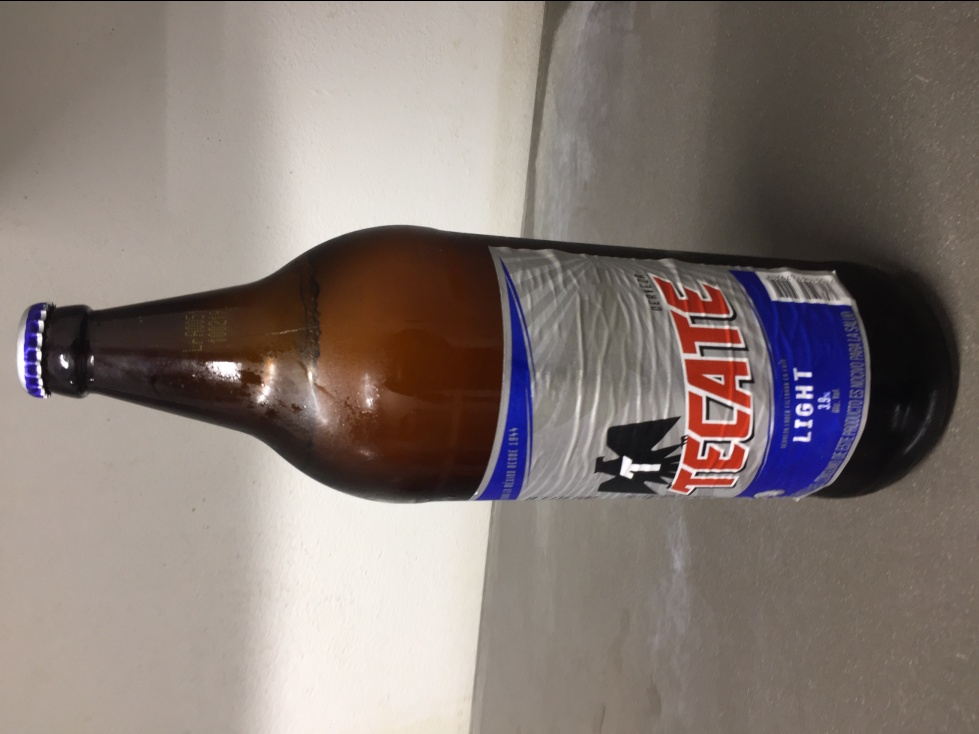tecateC: (10, 223, 962, 504)
